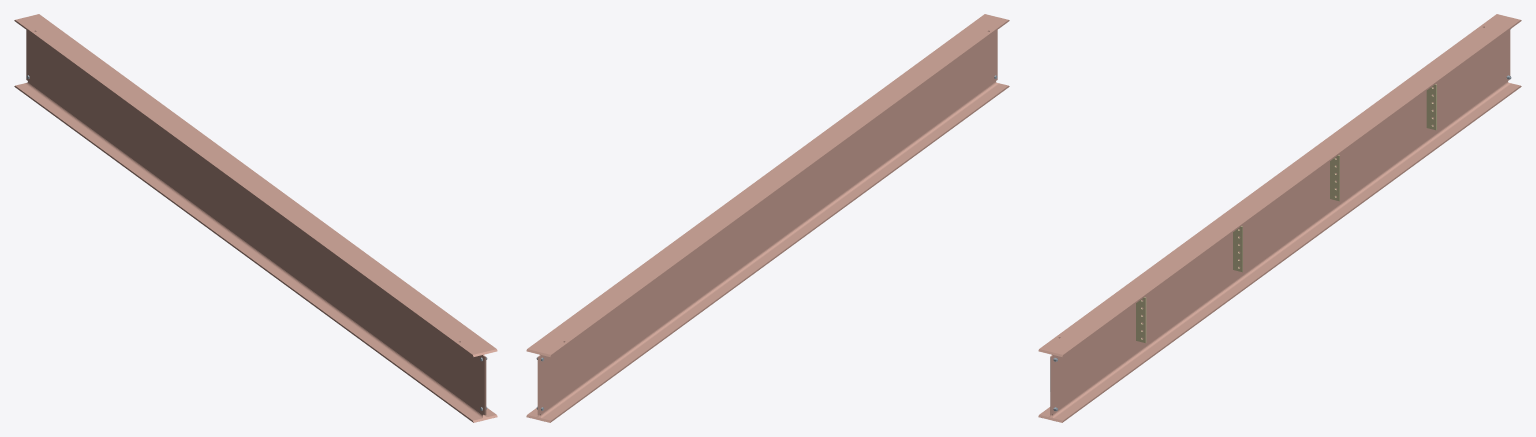
3 renders of one model, left to right at view 1: azimuth 30°, elevation 25°; view 2: azimuth 150°, elevation 25°; view 3: azimuth 330°, elevation 25°, orthographic.
Visible parts, largest first — view 1: product-b21ff197-be3c-4637-9a1c-91a56ac89c4b-body; view 2: product-b21ff197-be3c-4637-9a1c-91a56ac89c4b-body; view 3: product-b21ff197-be3c-4637-9a1c-91a56ac89c4b-body, product-50d7c962-51b2-4729-80fe-2b3f42228821-body, product-5c8a2f2b-d6bf-43ae-a557-7c8698f54c63-body.
Boxes of the visible parts, x1=… form: product-b21ff197-be3c-4637-9a1c-91a56ac89c4b-body: x1=14, y1=14, x2=497, y2=422; product-b21ff197-be3c-4637-9a1c-91a56ac89c4b-body: x1=526, y1=14, x2=1009, y2=422; product-b21ff197-be3c-4637-9a1c-91a56ac89c4b-body: x1=1038, y1=14, x2=1521, y2=422; product-50d7c962-51b2-4729-80fe-2b3f42228821-body: x1=1136, y1=297, x2=1146, y2=342; product-5c8a2f2b-d6bf-43ae-a557-7c8698f54c63-body: x1=1426, y1=84, x2=1436, y2=130.
Bounding box in the file's own units: 0.254 × 0.6782 × 8.38.
